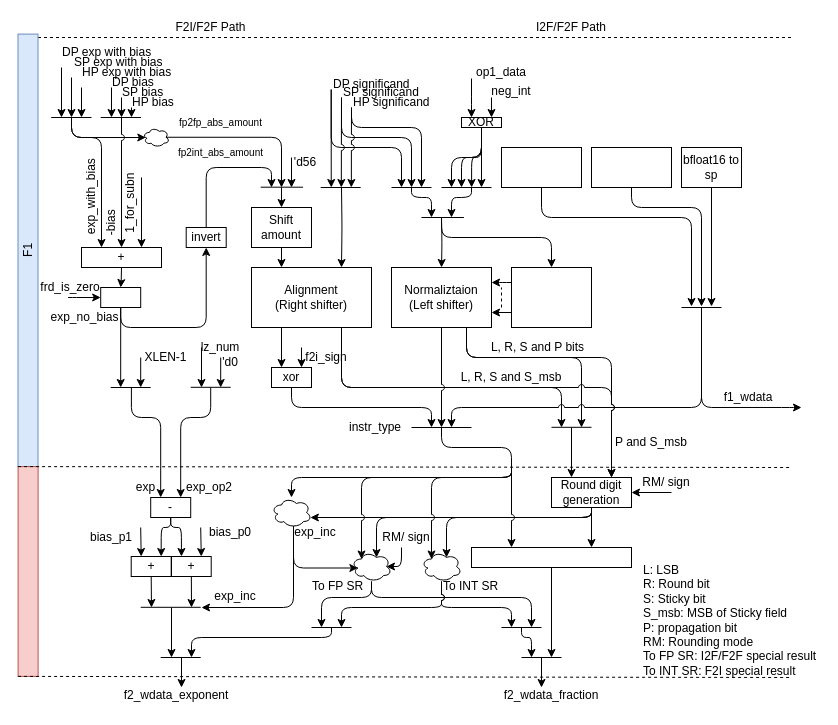
Some shapes in this 838 by 725 pixel diagram are drawn without their labels. The shapes that lost their labels are listed below. From the top down, each one's box as (x1, y1, x2, y2) in pixels, then its label:
(500, 146, 582, 188): Sign injection/ Classify/ Move instructions
(590, 146, 672, 188): Comparing instructions
(100, 286, 141, 308): Clear
(510, 266, 592, 328): LZD
(17, 466, 38, 676): F2
(470, 546, 632, 568): 64-bit Adder
